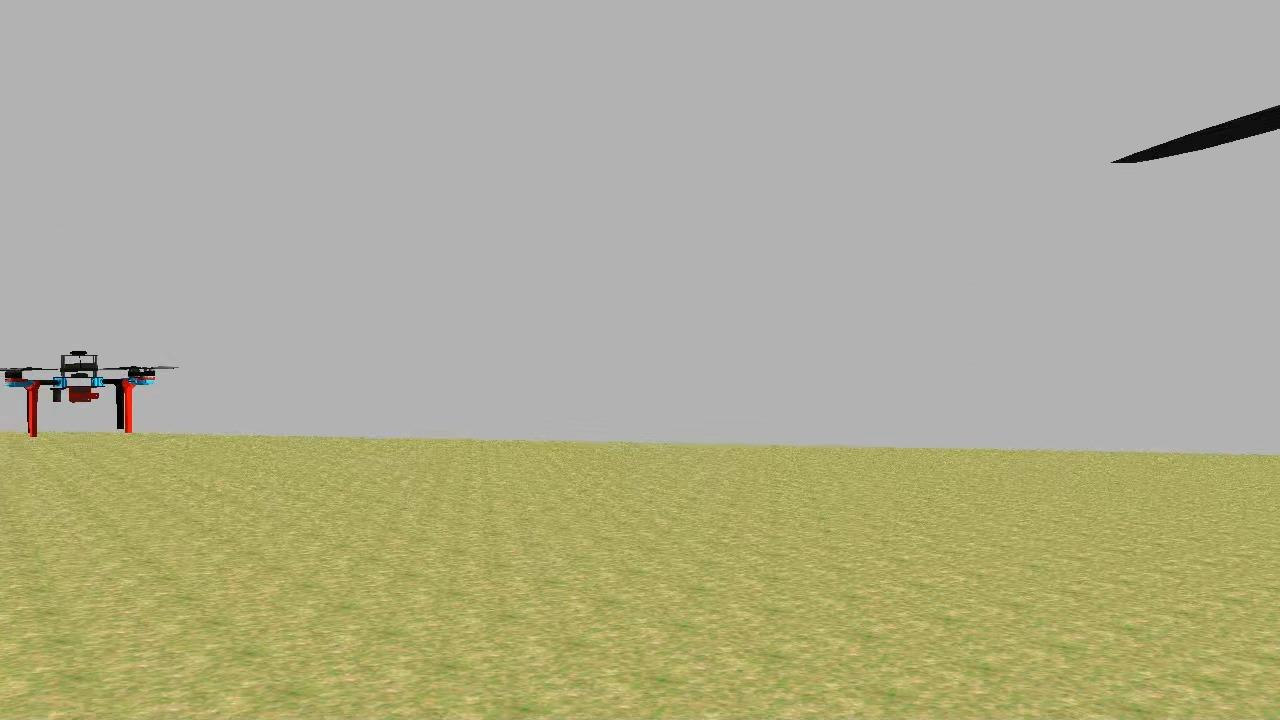UAV: (4, 342, 164, 440)
